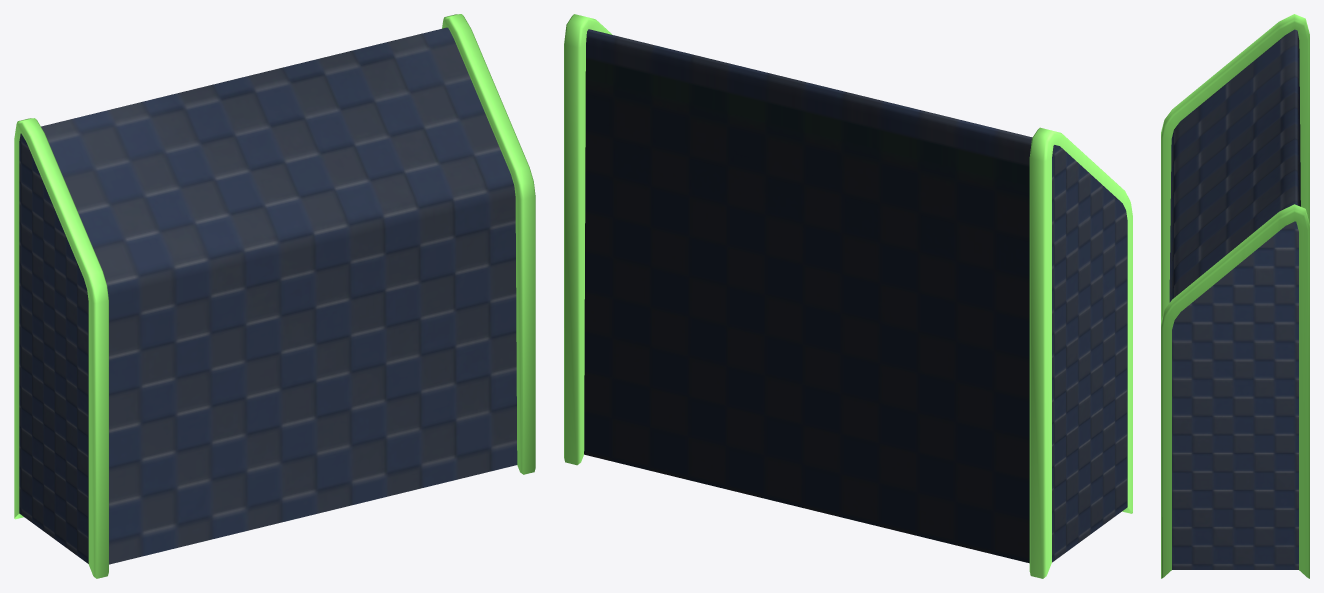
File: workstation.glb
The picture shows the model from 3 angles, left to right: view 1: azimuth 30°, elevation 25°; view 2: azimuth 150°, elevation 25°; view 3: azimuth 270°, elevation 25°; orthographic projection. The views are drawn at different scales.
Visible parts, largest first — view 1: WorkstationInitiateGame; view 2: WorkstationInitiateGame; view 3: WorkstationInitiateGame.
Boxes of the visible parts, bbox=[...] form: WorkstationInitiateGame: bbox=[14, 14, 535, 578]; WorkstationInitiateGame: bbox=[564, 14, 1132, 578]; WorkstationInitiateGame: bbox=[1161, 14, 1309, 578].
Bounding box in the file's own units: 1.38 × 1.21 × 0.4412.
1 material, 1 textured.
